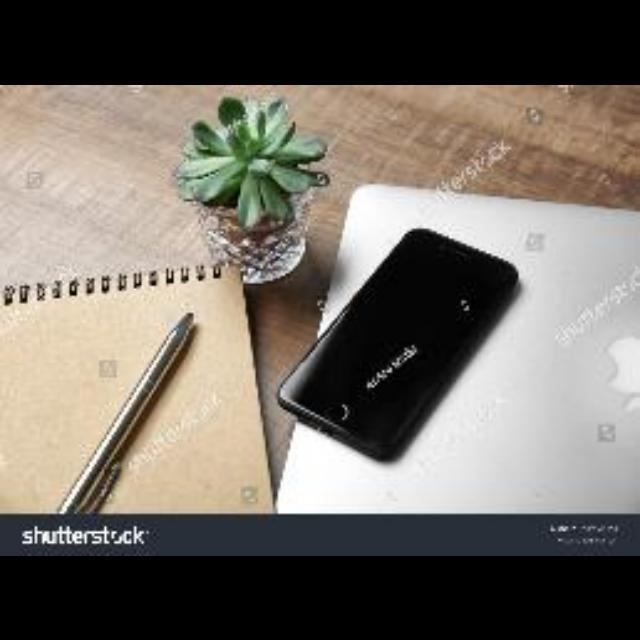PhoneUse: (279, 225, 519, 460)
